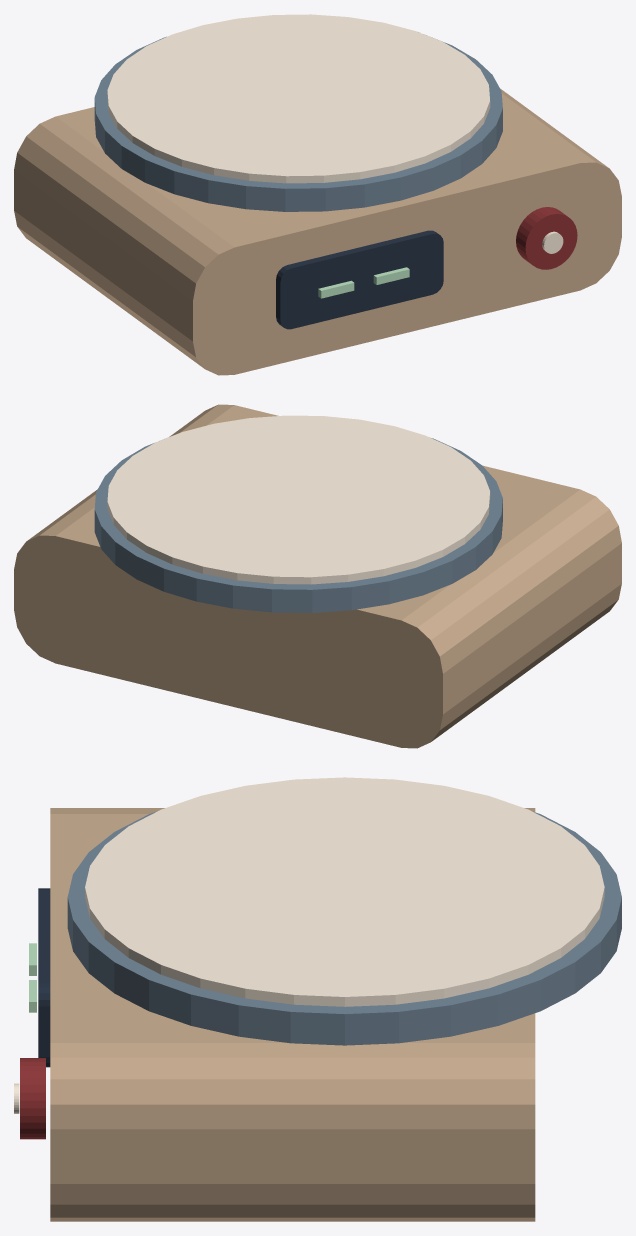
The model's file is scale.glb.
The picture shows the model from 3 angles, top to bottom: view 1: azimuth 30°, elevation 25°; view 2: azimuth 150°, elevation 25°; view 3: azimuth 270°, elevation 25°; orthographic projection. The views are drawn at different scales.
Parts seen in each view (by area): view 1: base, plate face, weighing plate, screen, tare key; view 2: base, plate face, weighing plate; view 3: base, plate face, weighing plate, screen, tare key.
Part boxes in pixels (<box>): base: <box>14,32,621,375</box>; plate face: <box>107,14,490,183</box>; weighing plate: <box>94,35,502,211</box>; screen: <box>276,230,443,329</box>; tare key: <box>516,207,577,269</box>; base: <box>14,404,621,748</box>; plate face: <box>107,415,490,584</box>; weighing plate: <box>94,438,502,612</box>; base: <box>50,808,535,1221</box>; plate face: <box>85,777,604,1006</box>; weighing plate: <box>67,811,621,1045</box>; screen: <box>38,888,50,1067</box>; tare key: <box>20,1058,45,1139</box>.
Size of the model in its own units: 1.55 by 0.545 by 1.4.
